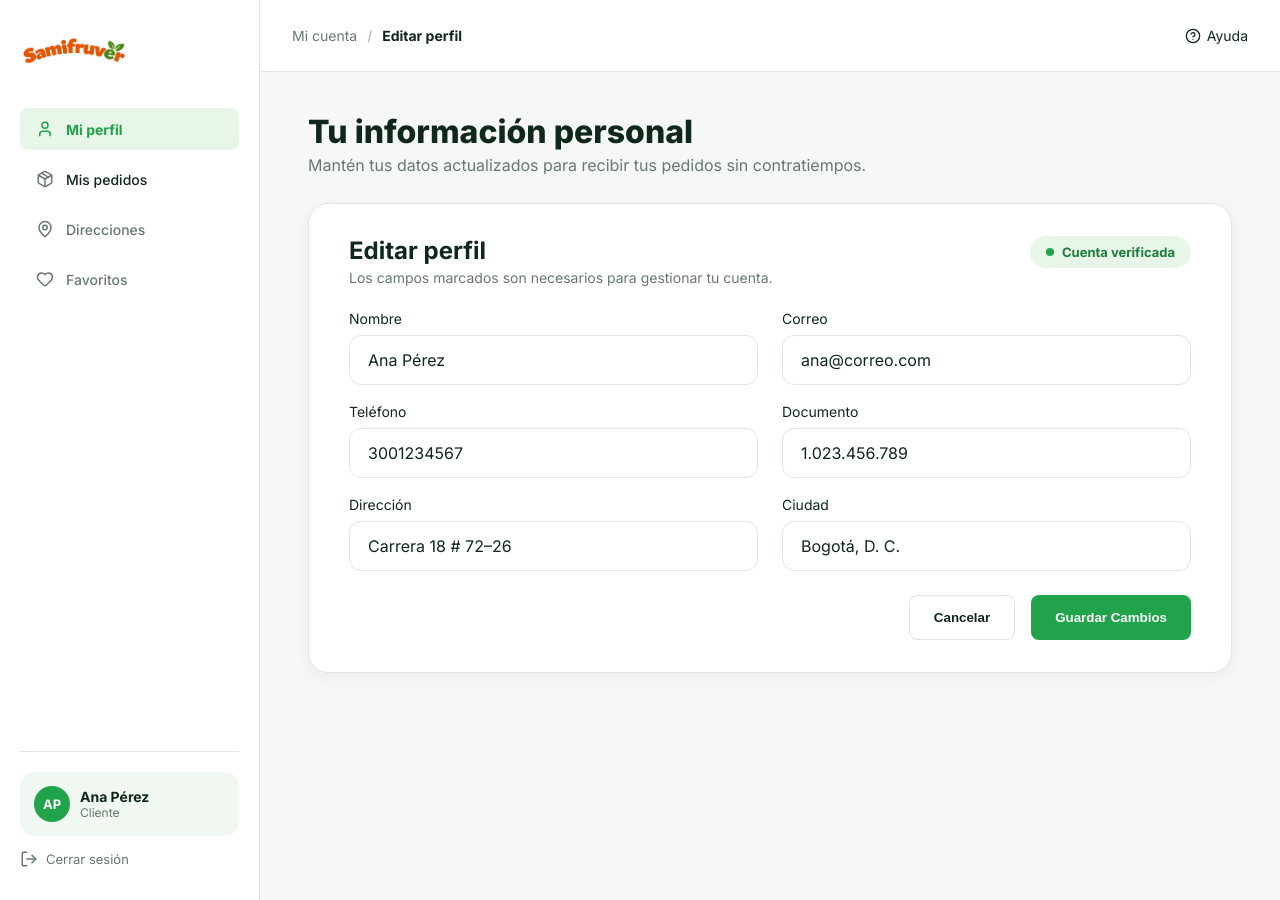
it: Editar perfil (E2-HU3) › E2-HU3 ESC1b: correo con formato inválido → mensaje de dominio válido
Expected: the field labelled "Documento" holds "1.023.456.789", [799,442,1174,464]
Replace the text in the field labelled "Correo" with "malcorreo" at (986, 360), box [799,349,1174,371]
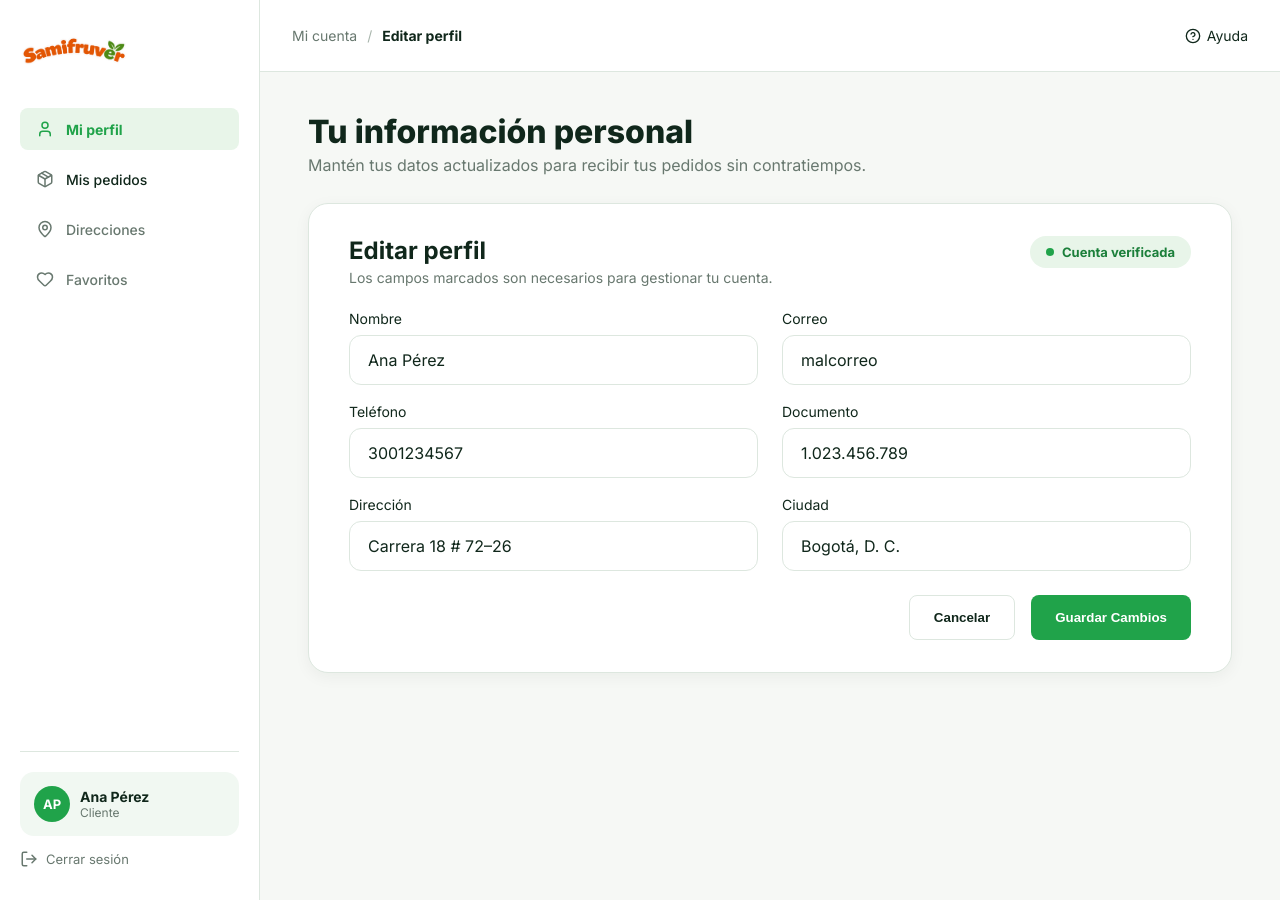
Click the button "Guardar Cambios" at (1111, 618), box [1031,595,1191,640]
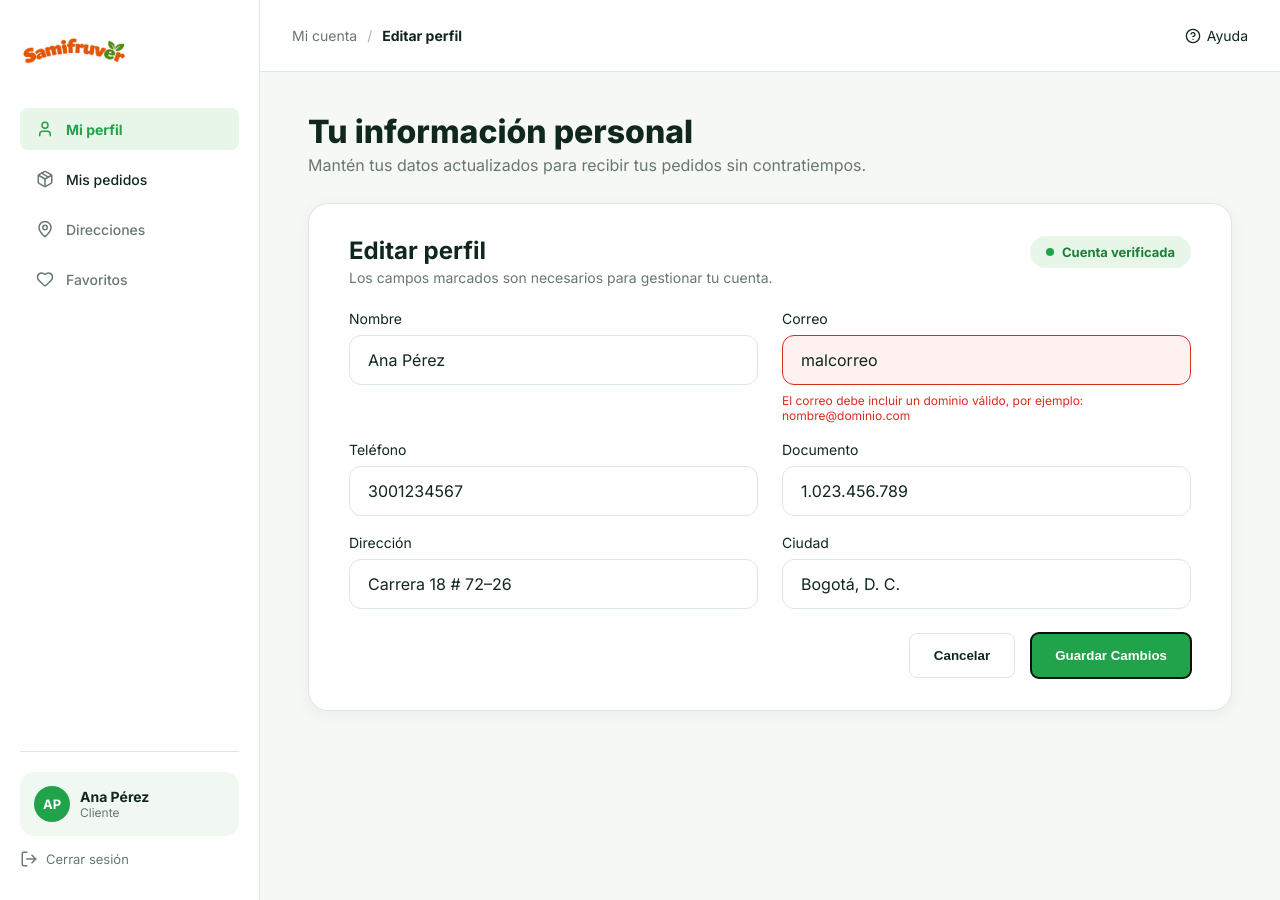
Now the text "El correo debe incluir un dominio válido, por ejemplo: nombre@dominio.com" is shown, box [782,393,1083,423]
